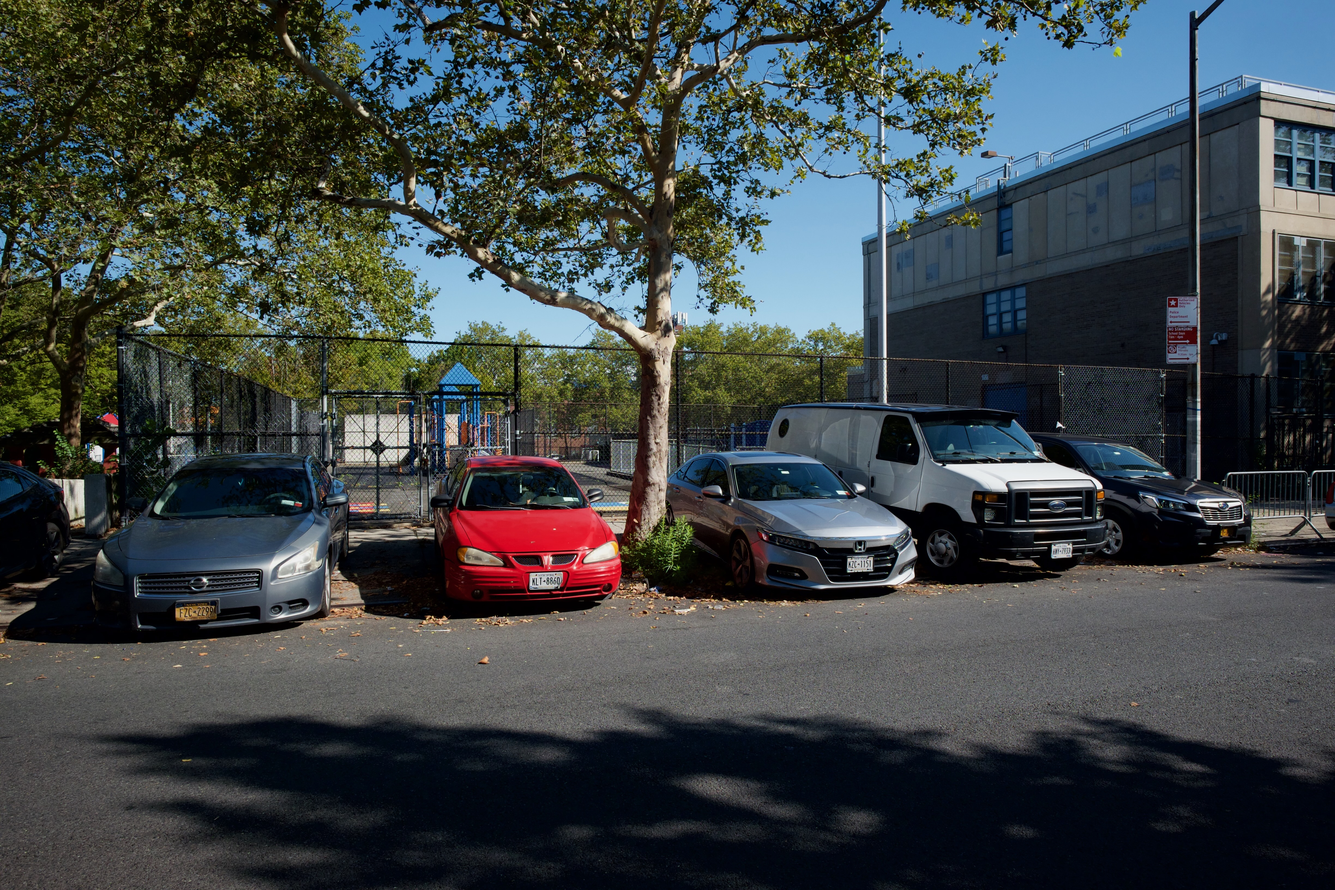Car: (90, 446, 365, 639), (872, 405, 1122, 594), (671, 446, 923, 619), (419, 452, 637, 614), (1052, 426, 1255, 586)
